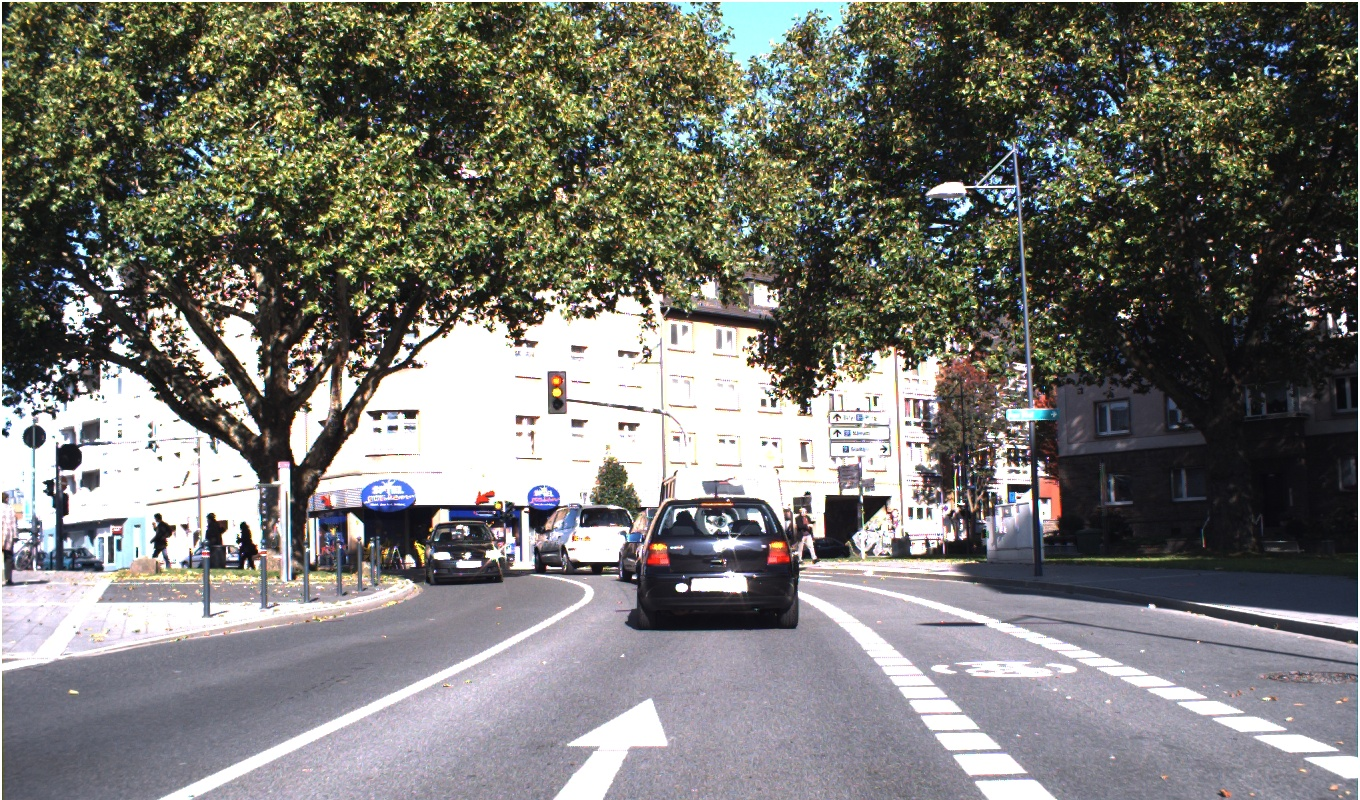Dangerous curve to the right: (951, 348, 1015, 408)
No passing: (962, 408, 1011, 455)
